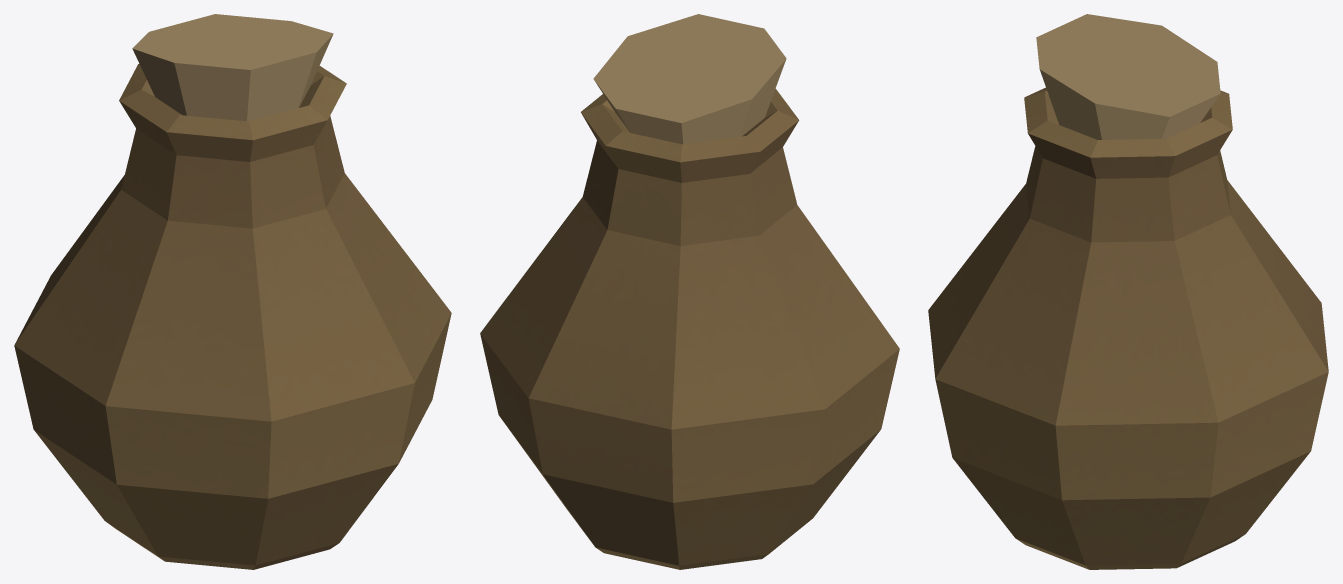
The model's file is Pot_2.fbx.
3 views of the same model, side by side, from view 1: azimuth 30°, elevation 25°; view 2: azimuth 150°, elevation 25°; view 3: azimuth 270°, elevation 25° (orthographic). The views are drawn at different scales.
Parts seen in each view (by area): view 1: polySurface1524; view 2: polySurface1524; view 3: polySurface1524.
Part boxes in pixels (left/top/right/bottom): polySurface1524: left=14, top=14, right=451, bottom=569; polySurface1524: left=480, top=14, right=899, bottom=569; polySurface1524: left=928, top=14, right=1328, bottom=569.
Size of the model in its own units: 27.56 by 35.93 by 27.56.
